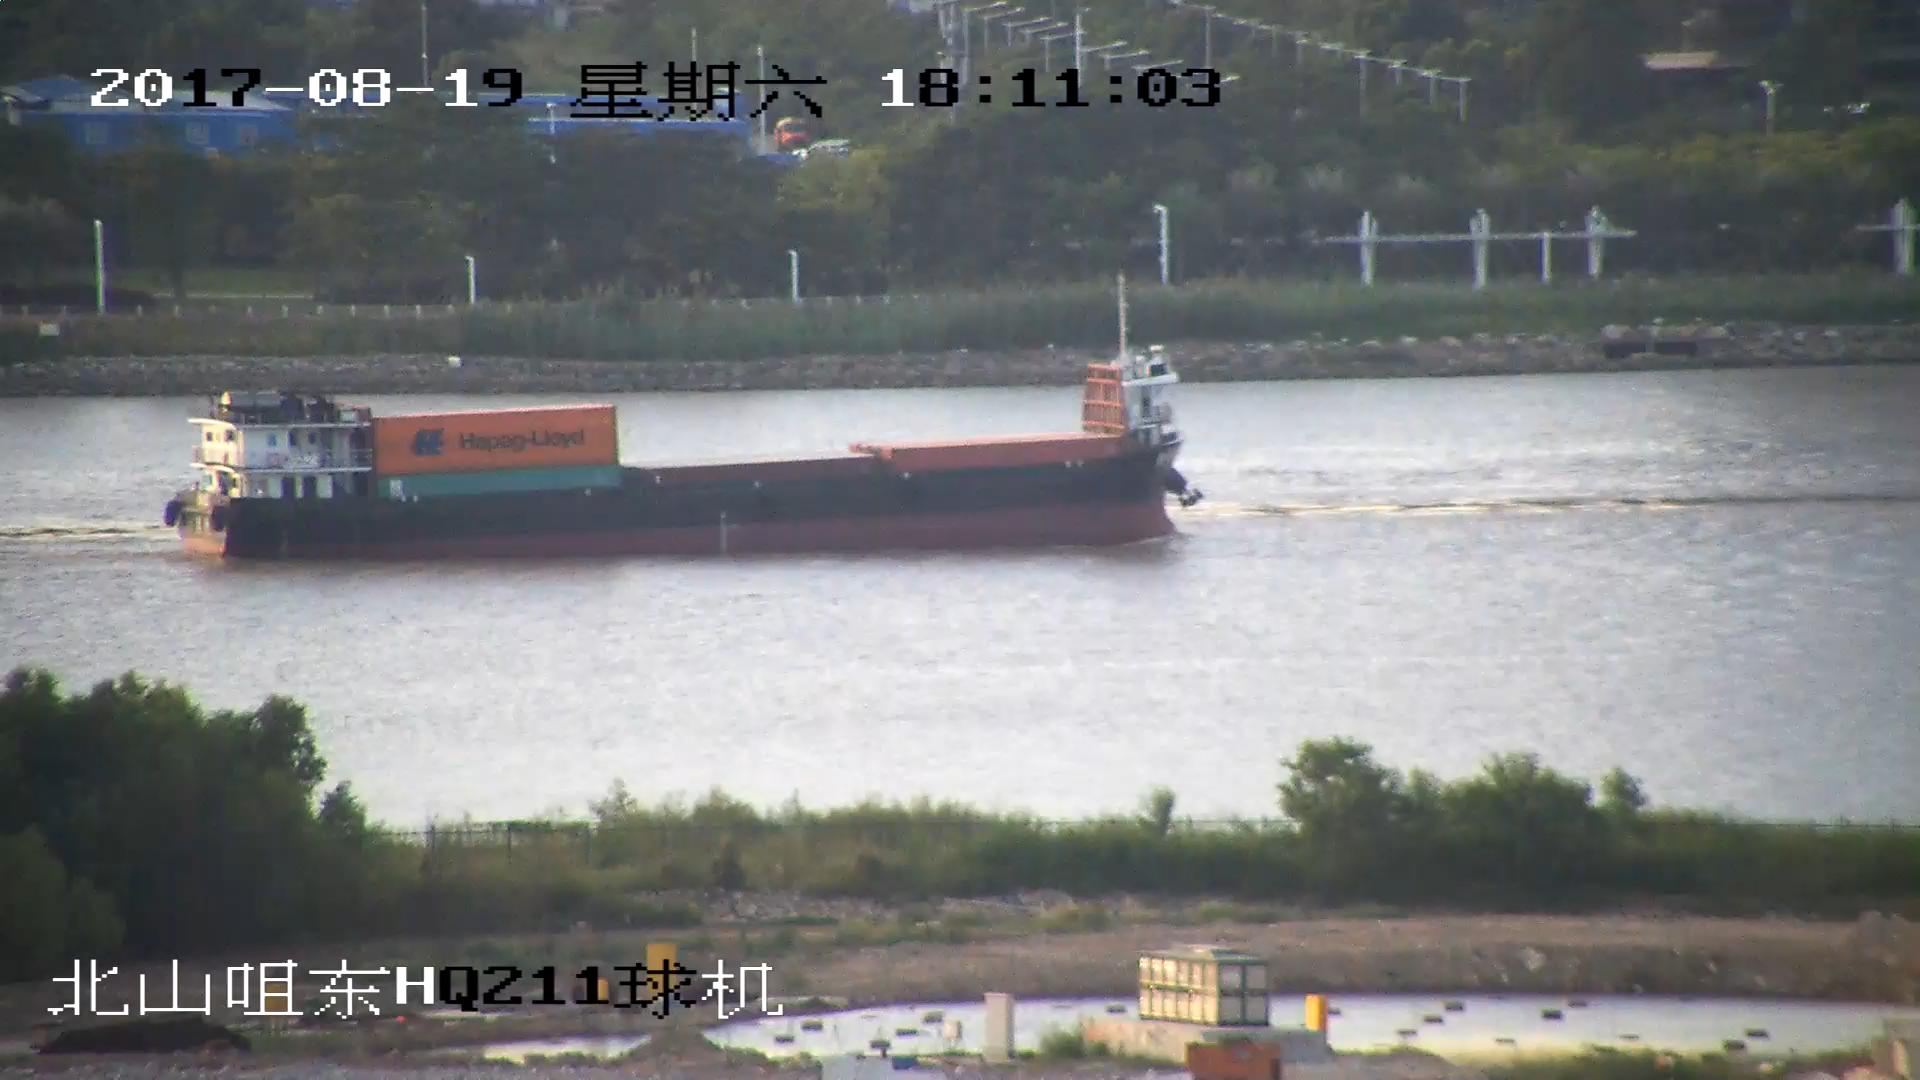container ship: (171, 280, 1201, 557)
